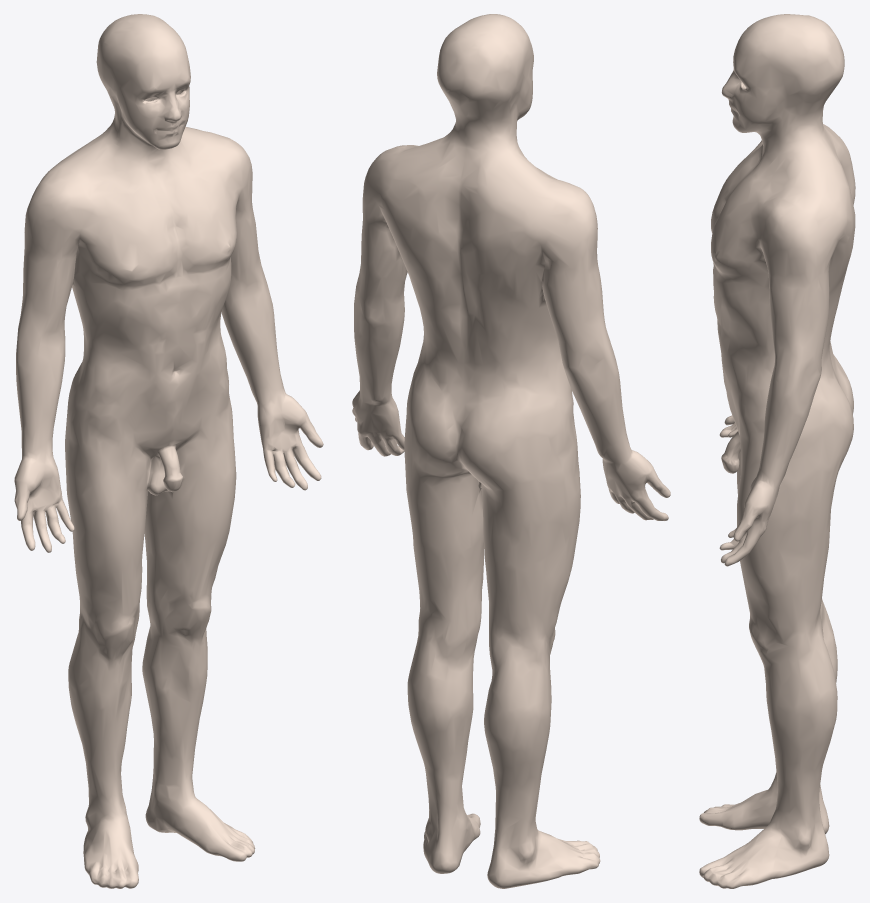
File: cuerpo-piel.glb
3 views of the same model, side by side, from view 1: azimuth 30°, elevation 25°; view 2: azimuth 150°, elevation 25°; view 3: azimuth 270°, elevation 25° (orthographic). The views are drawn at different scales.
Visible parts, largest first — view 1: piel; view 2: piel; view 3: piel.
Boxes of the visible parts, x1,y1,x2,y2 form: piel: [14, 14, 323, 888]; piel: [352, 14, 670, 888]; piel: [699, 14, 855, 888].
Size of the model in its own units: 0.6665 by 1.72 by 0.292.
